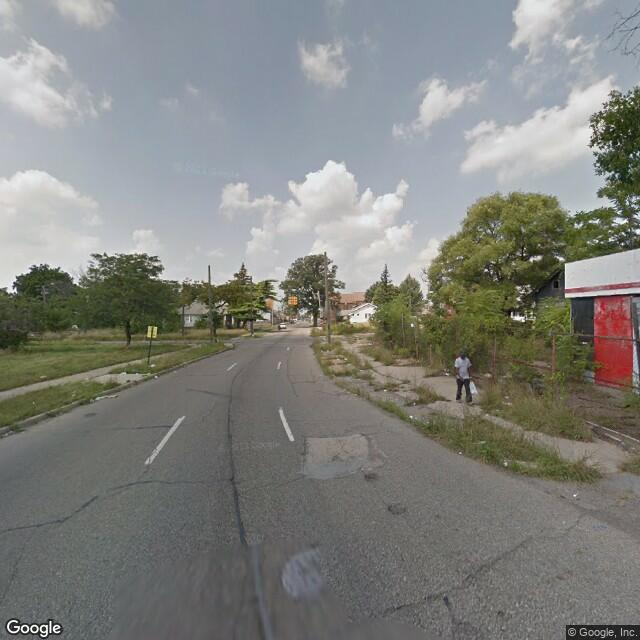litter: (95, 392, 118, 400), (410, 399, 424, 408), (339, 355, 353, 363), (456, 447, 464, 458), (381, 387, 395, 393), (494, 404, 503, 413), (502, 461, 512, 468), (153, 373, 163, 380), (356, 368, 368, 373), (569, 493, 577, 500), (408, 413, 414, 421), (41, 375, 53, 379), (118, 372, 129, 376), (443, 372, 451, 377), (29, 400, 38, 404), (483, 412, 489, 417)
